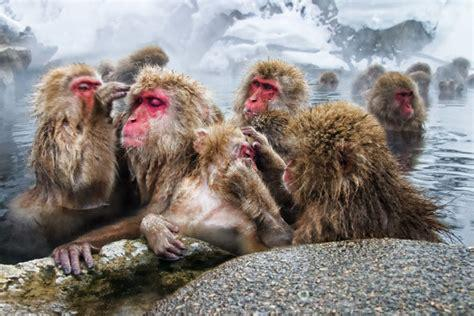monkey: (53, 69, 222, 274), (227, 107, 438, 252), (10, 64, 127, 239), (141, 122, 256, 258), (235, 64, 309, 128), (370, 73, 425, 132)
